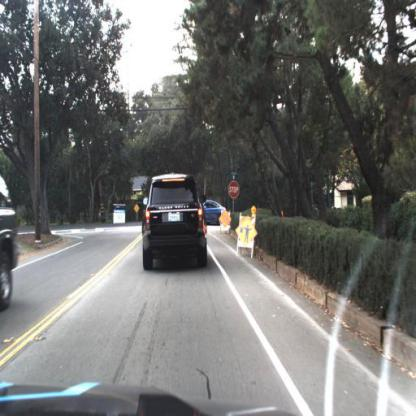car: (140, 170, 210, 274), (1, 160, 22, 319), (192, 196, 229, 229)
